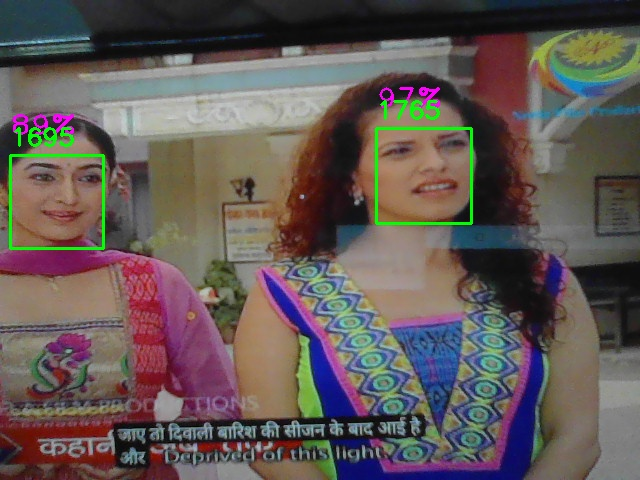fake: (376, 128, 472, 224), (10, 155, 104, 249)
